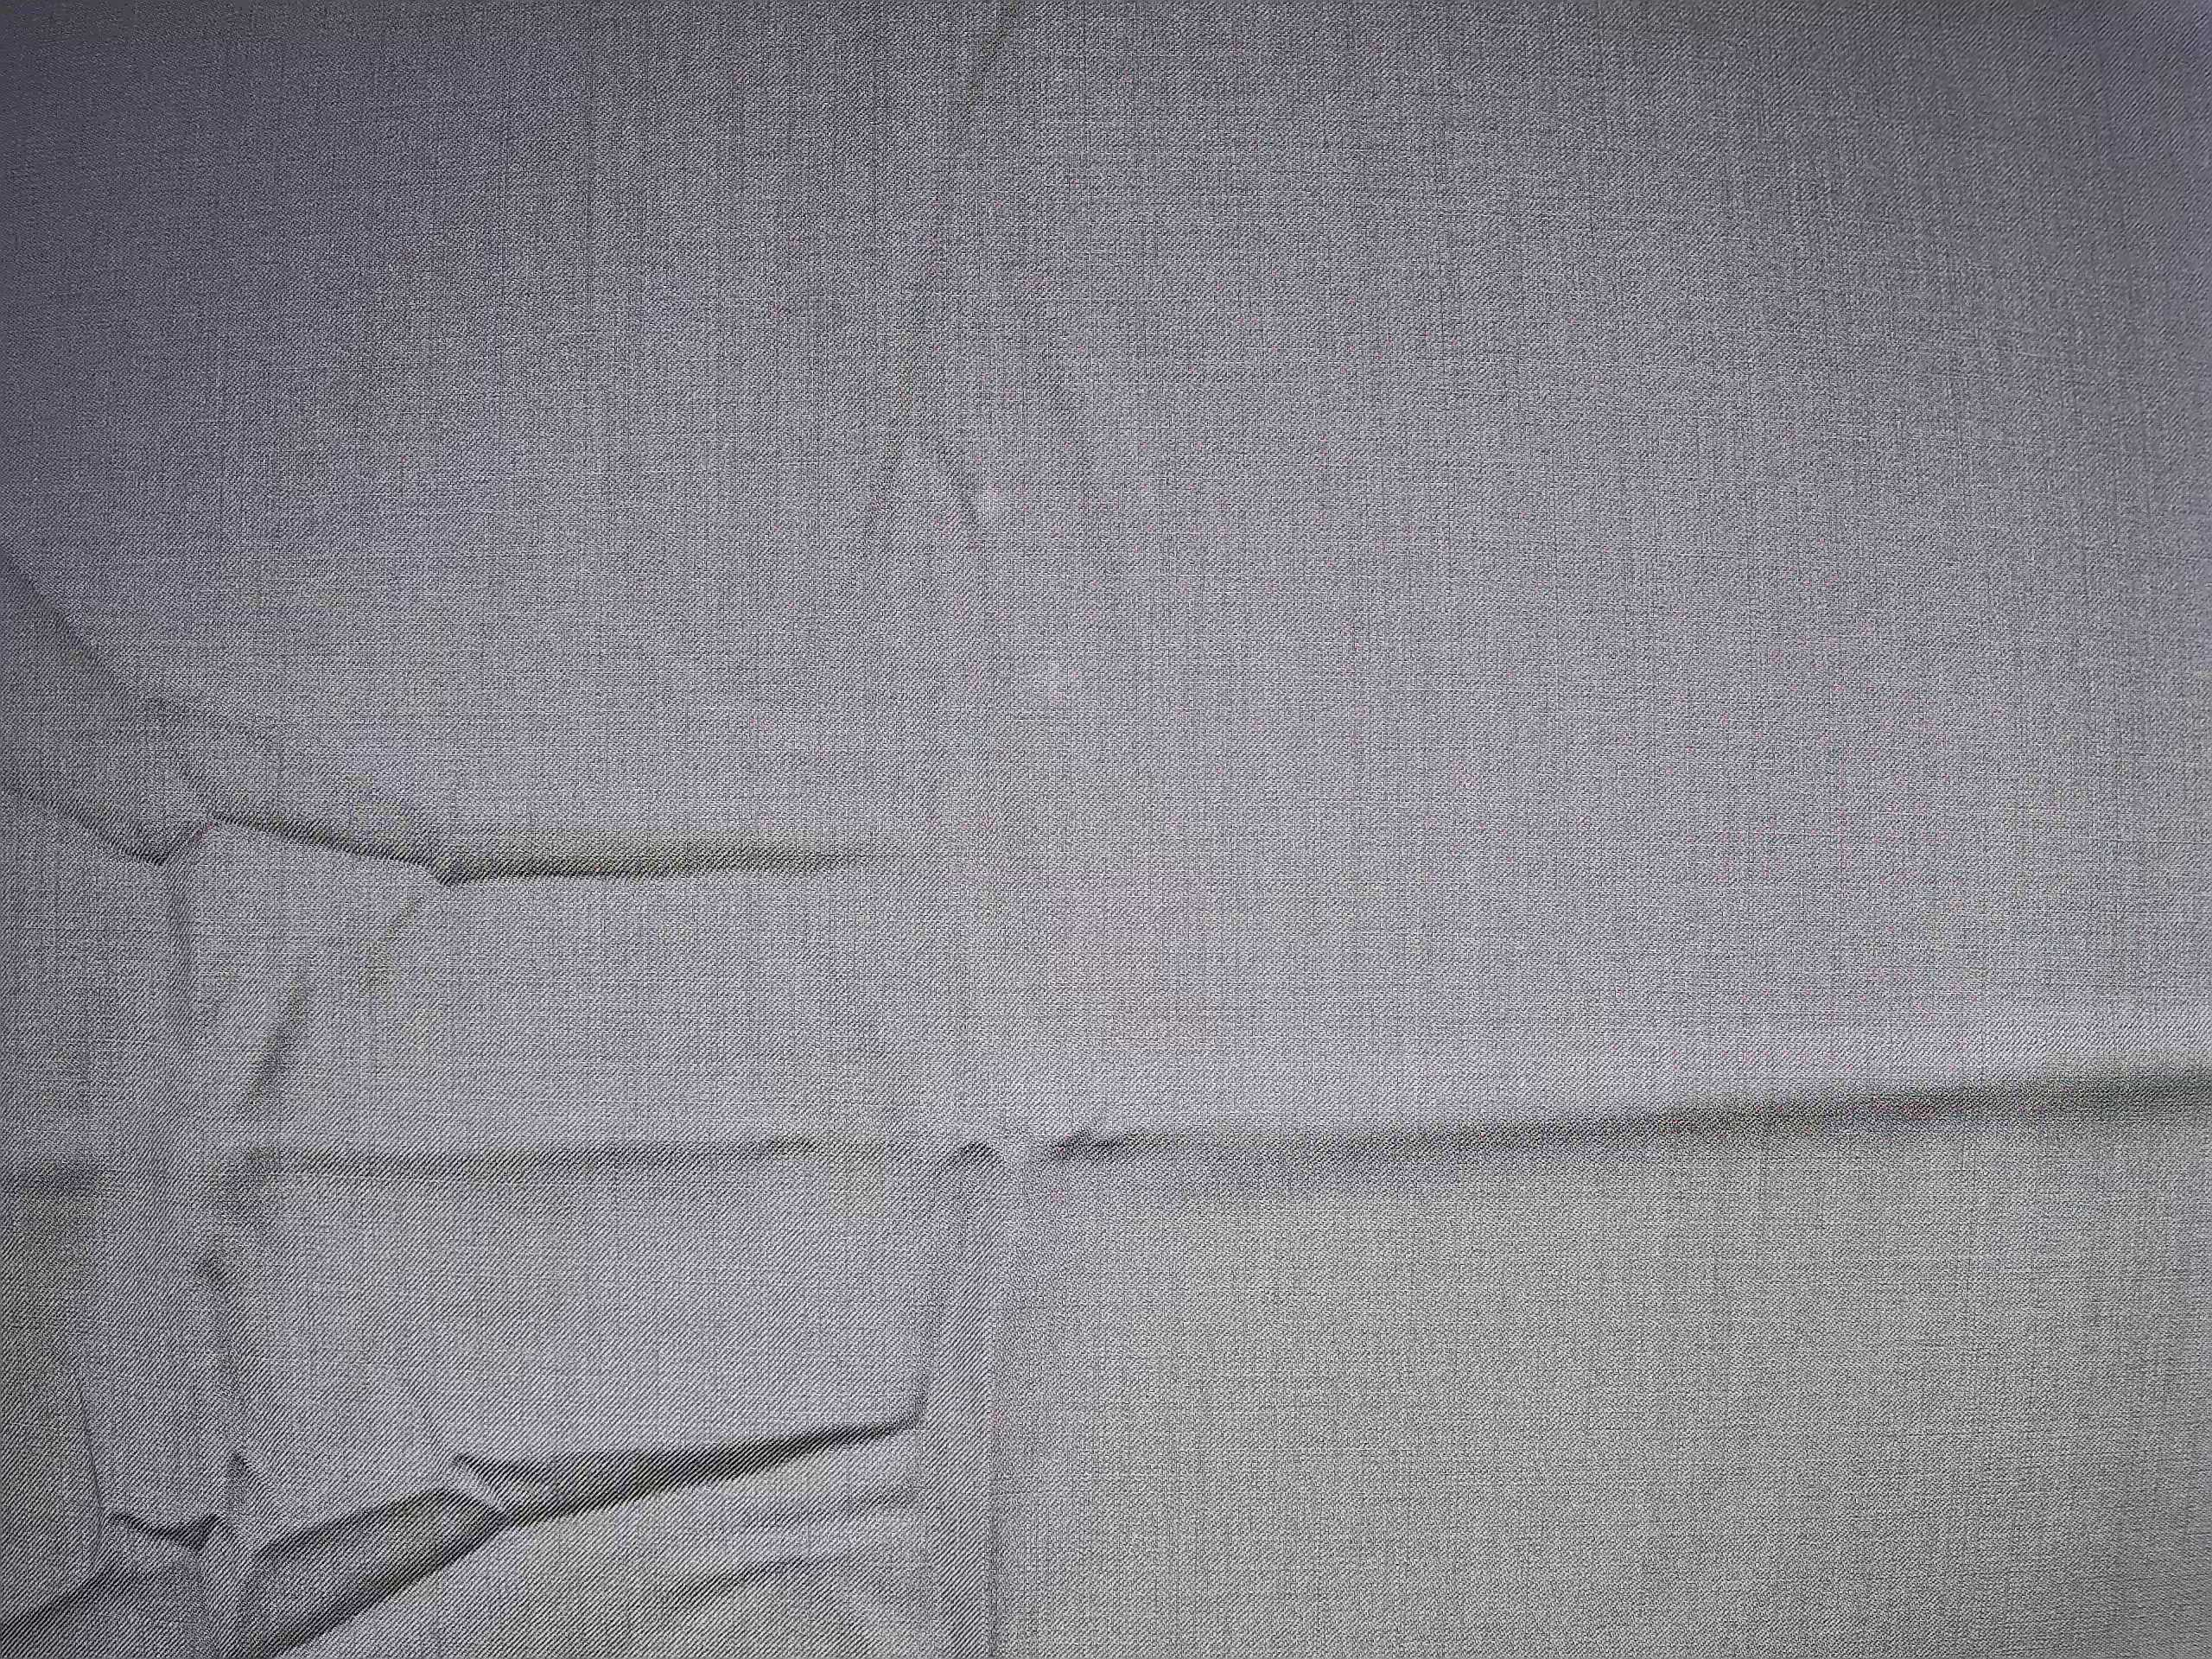stains: (998, 632, 1102, 729), (941, 446, 1031, 553)
